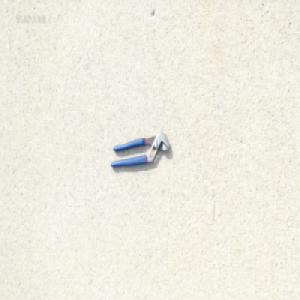Pliers: (109, 129, 170, 167)
